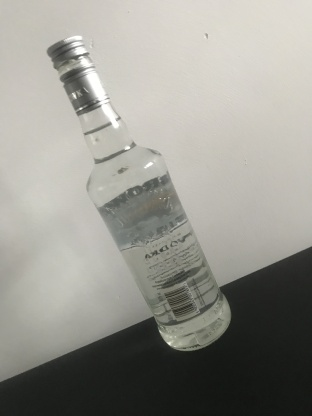nakretka: (44, 33, 111, 117)
